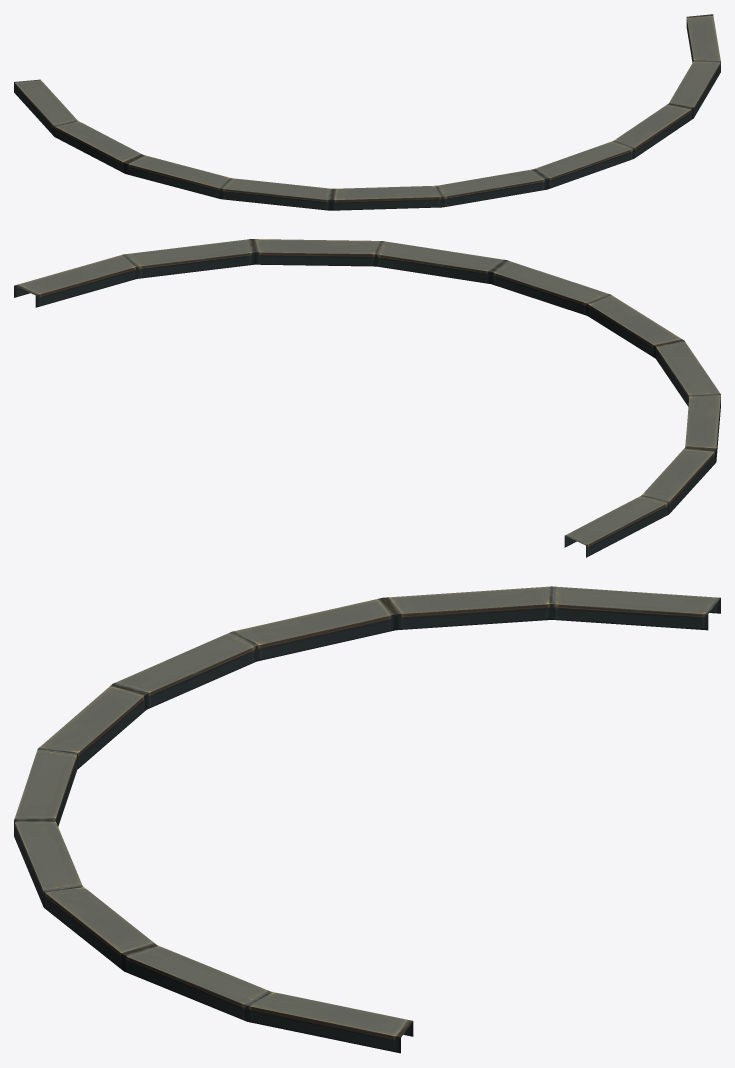
File: cs_zhucheng_chuansongfbfs_001.FBX
3 views of the same model, one above another, from view 1: azimuth 30°, elevation 25°; view 2: azimuth 150°, elevation 25°; view 3: azimuth 270°, elevation 25° (orthographic). The views are drawn at different scales.
Visible parts, largest first — view 1: cs_zhucheng_chuansongfbfs_001; view 2: cs_zhucheng_chuansongfbfs_001; view 3: cs_zhucheng_chuansongfbfs_001.
Part boxes in pixels (x1,y1,x2,y2): cs_zhucheng_chuansongfbfs_001: (14, 14, 720, 210); cs_zhucheng_chuansongfbfs_001: (14, 239, 720, 557); cs_zhucheng_chuansongfbfs_001: (14, 586, 720, 1053).
Size of the model in its own units: 349 by 231 by 5.77.
